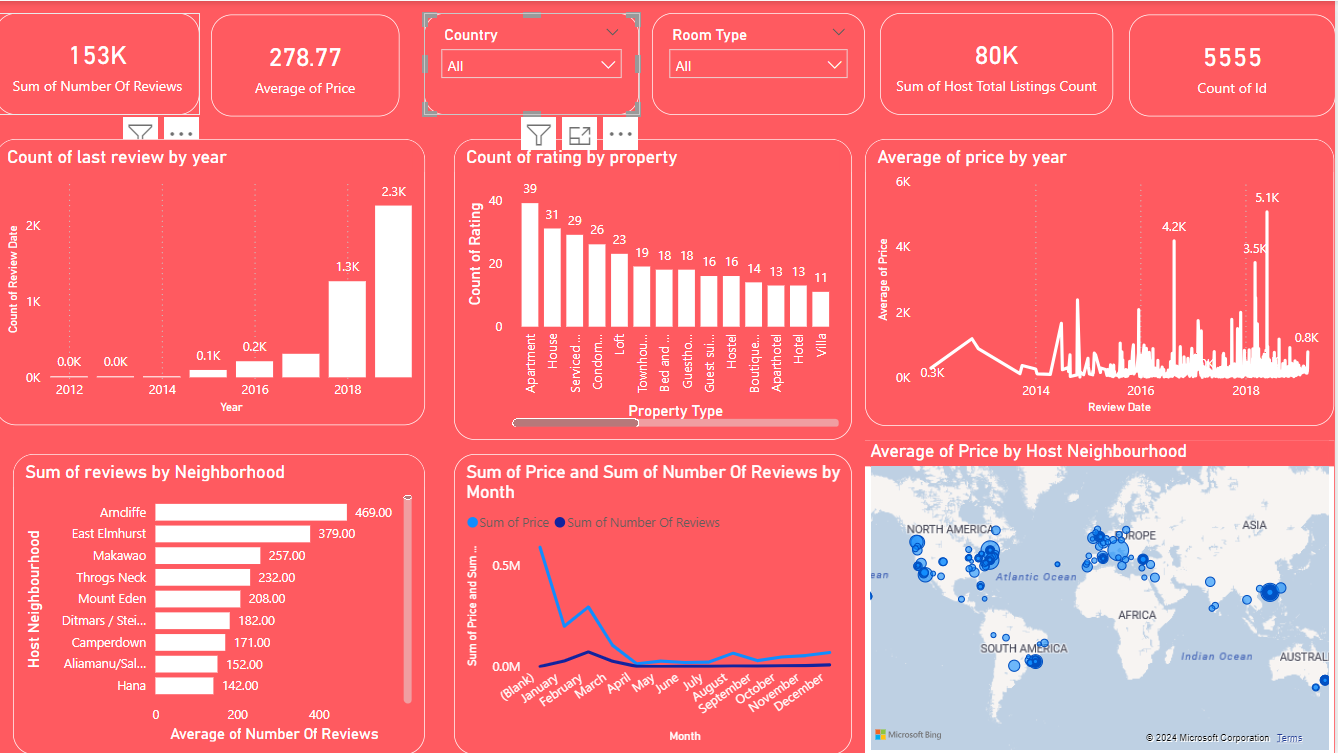

The page's visual inventory and layout, read from the dashboard file:
{"tool":"powerbi","page":{"name":"Page 1","canvas":[1280,720],"ordinal":0},"visuals":[{"type":"slicer","fields":{"Values":["Airbnb.Country"]},"box":[410.4,11.1,205.2,97],"z":0},{"type":"slicer","fields":{"Values":["Airbnb.Room Type"]},"box":[626.7,11.1,203.6,97],"z":1000},{"type":"card","fields":{"Values":["Sum(Airbnb.Number Of Reviews)"]},"box":[0,11.1,195.6,97],"z":2000},{"type":"card","fields":{"Values":["Avg(Airbnb.Price)"]},"box":[206.8,12.7,179.7,97],"z":3000},{"type":"card","fields":{"Values":["Sum(Airbnb.Host Total Listings Count)"]},"box":[844.6,11.1,222.7,97],"z":4000},{"type":"card","fields":{"Values":["CountNonNull(Airbnb.Id)"]},"box":[1083.2,12.7,197.2,97],"z":5000},{"type":"clusteredColumnChart","title":"Count of last review by year","fields":{"Category":["Airbnb.Review Date.Variation.Date Hierarchy.Year"],"Y":["CountNonNull(Airbnb.Review Date)"]},"box":[0,132,410.4,273.6],"z":6000},{"type":"lineChart","title":"Average of price by year","fields":{"Category":["Airbnb.Review Date"],"Y":["Avg(Airbnb.Price)"]},"box":[831.5,132.3,447.9,274],"z":7000},{"type":"clusteredColumnChart","title":"Count of rating by property","fields":{"Y":["Count(Airbnb.Rating)"],"Category":["Airbnb.Property Type"]},"box":[438.4,132.3,379.8,287.2],"z":8000},{"type":"map","fields":{"Category":["Airbnb.Host Neighbourhood"],"Size":["Avg(Airbnb.Price)"]},"box":[831.5,419.5,447.9,300.5],"z":8001},{"type":"barChart","title":"Sum of reviews by Neighborhood","fields":{"Y":["Avg(Airbnb.Number Of Reviews)"],"Category":["Airbnb.Host Neighbourhood"]},"box":[17,432.8,393.1,287.2],"z":8002},{"type":"lineChart","fields":{"Category":["Airbnb.Review Date.Variation.Date Hierarchy.Month"],"Y":["Sum(Airbnb.Price)","Sum(Airbnb.Number Of Reviews)"]},"box":[438,433,380,287],"z":8003}]}

Visuals, with their boxes in screenshot pixels (x1, y1, x2, y2), scaled from the page's 1280x720 canvas onto the 1338x753 screenshot:
slicer - Airbnb.Country: bbox=[429, 12, 643, 113]
slicer - Airbnb.Room Type: bbox=[655, 12, 868, 113]
card - Sum(Airbnb.Number Of Reviews): bbox=[0, 12, 204, 113]
card - Avg(Airbnb.Price): bbox=[216, 13, 404, 115]
card - Sum(Airbnb.Host Total Listings Count): bbox=[883, 12, 1116, 113]
card - CountNonNull(Airbnb.Id): bbox=[1132, 13, 1337, 115]
"Count of last review by year" clusteredColumnChart: bbox=[0, 138, 429, 424]
"Average of price by year" lineChart: bbox=[869, 138, 1337, 425]
"Count of rating by property" clusteredColumnChart: bbox=[458, 138, 855, 439]
map - Airbnb.Host Neighbourhood x Avg(Airbnb.Price): bbox=[869, 439, 1337, 752]
"Sum of reviews by Neighborhood" barChart: bbox=[18, 453, 429, 752]
lineChart - Airbnb.Review Date.Variation.Date Hierarchy.Month x Sum(Airbnb.Price): bbox=[458, 453, 855, 752]
